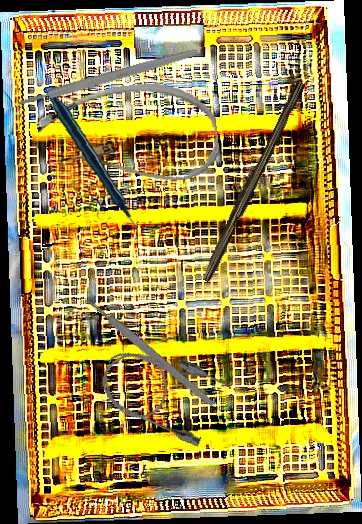Cannula: (33, 75, 223, 197), (92, 333, 234, 450)
Handpiece: (37, 89, 147, 242)
Scalpel Handle: (198, 77, 306, 285), (84, 296, 217, 409), (15, 46, 199, 109)
